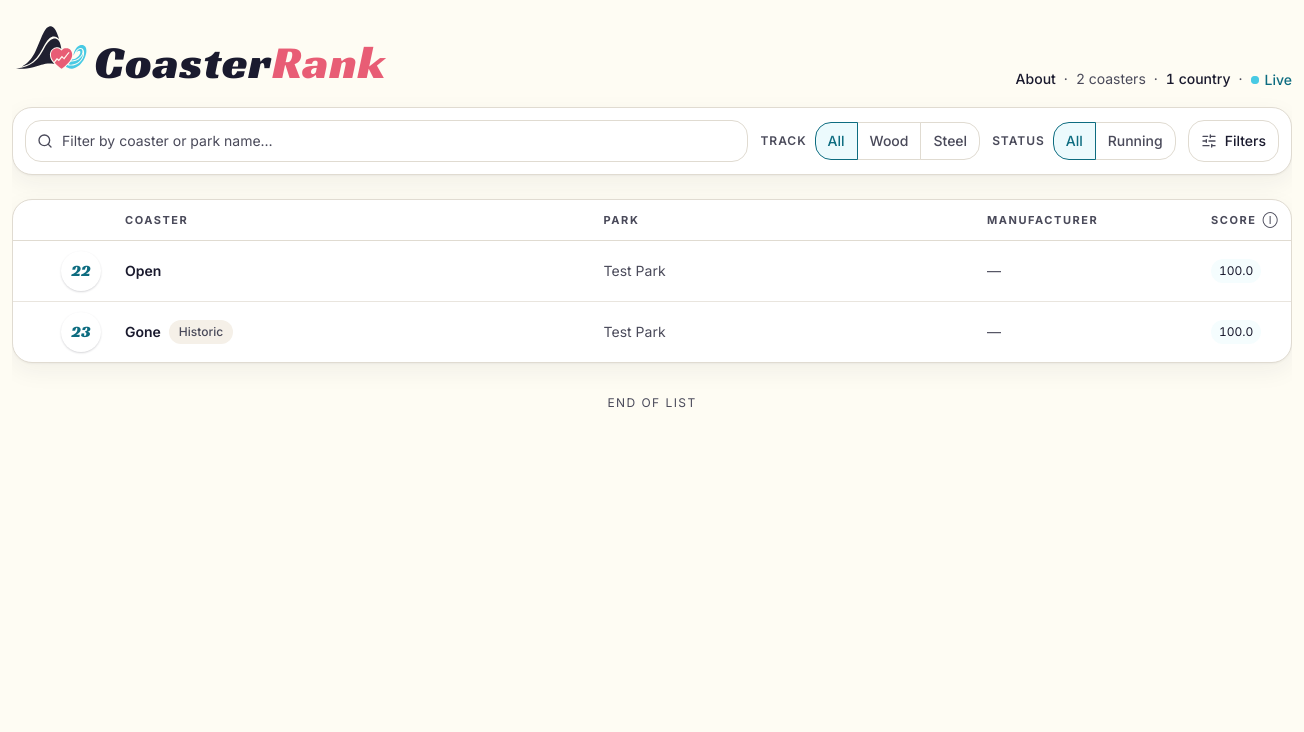
Test: BoardPage › shows all coasters by default and only operating when filtered to Running
The width and height of the screenshot is (1304, 732).
Expected: the link "Open" is shown, [125,261,161,281]
Expected: the link "Gone" is shown, [125,322,161,342]
Click the radio button labelled "Running".
click(1135, 141)  # box [1095,122,1176,160]
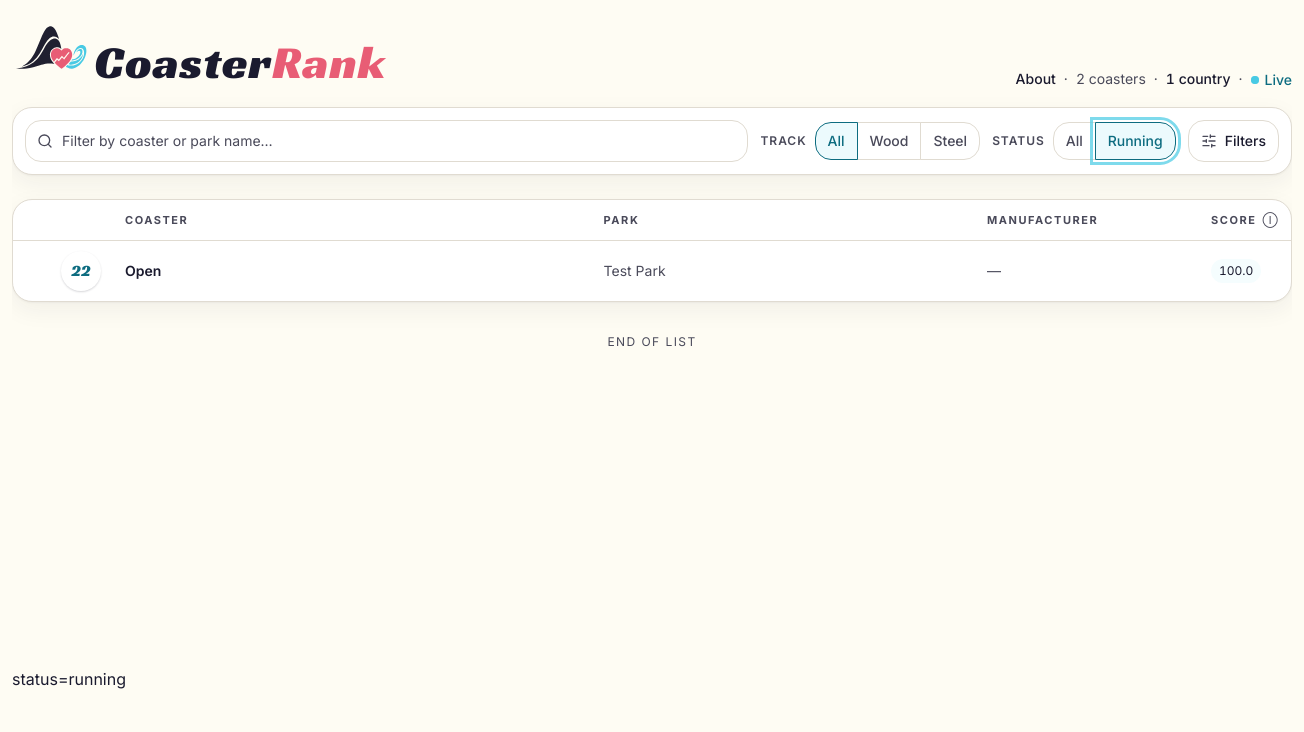
Expected: the link "Open" is shown, [125,261,161,281]
Now the link "Gone" is gone
